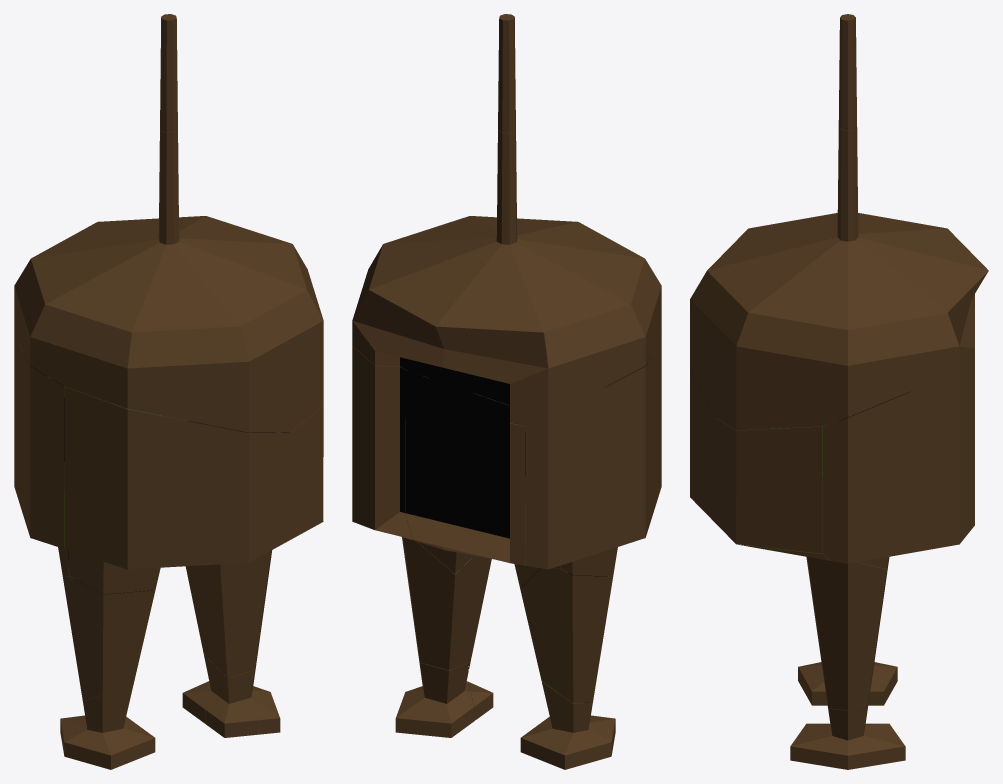
Rendered from elfhousebroken.fbx.
3 renders of one model, left to right at view 1: azimuth 30°, elevation 25°; view 2: azimuth 150°, elevation 25°; view 3: azimuth 270°, elevation 25°, orthographic.
Visible parts, largest first — view 1: Mesh.001_cell.003, Mesh.001_cell.008, Mesh.001_cell.006, Mesh.001_cell.004, Mesh.001_cell.005, Mesh.001_cell.002, Mesh.001_cell.007, Mesh.001_cell.001, Mesh.001_cell.009, Mesh.001_cell.010; view 2: Mesh.001_cell.003, Mesh.001_cell.006, Mesh.001_cell.007, Mesh.001_cell, Mesh.001_cell.005, Mesh.001_cell.004, Mesh.001_cell.002, Mesh.001_cell.001, Mesh.001_cell.009, Mesh.001_cell.008, Mesh.001_cell.010; view 3: Mesh.001_cell.003, Mesh.001_cell, Mesh.001_cell.007, Mesh.001_cell.004, Mesh.001_cell.001, Mesh.001_cell.008, Mesh.001_cell.009, Mesh.001_cell.002.
Boxes of the visible parts, x1,y1,x2,y2 form: Mesh.001_cell.003: (14, 129, 323, 432); Mesh.001_cell.008: (64, 387, 290, 594); Mesh.001_cell.006: (14, 335, 69, 576); Mesh.001_cell.004: (185, 550, 272, 677); Mesh.001_cell.005: (62, 575, 155, 701); Mesh.001_cell.002: (60, 667, 155, 769); Mesh.001_cell.007: (290, 406, 323, 539); Mesh.001_cell.001: (182, 654, 280, 734); Mesh.001_cell.009: (160, 14, 177, 132); Mesh.001_cell.010: (205, 708, 260, 737); Mesh.001_cell.003: (352, 128, 661, 426); Mesh.001_cell.006: (525, 358, 651, 576); Mesh.001_cell.007: (405, 369, 539, 588); Mesh.001_cell: (352, 346, 411, 539); Mesh.001_cell.005: (520, 568, 613, 703); Mesh.001_cell.004: (402, 537, 491, 670); Mesh.001_cell.002: (520, 681, 615, 769); Mesh.001_cell.001: (395, 657, 474, 737); Mesh.001_cell.009: (498, 14, 515, 132); Mesh.001_cell.008: (554, 327, 661, 568); Mesh.001_cell.010: (467, 681, 493, 720); Mesh.001_cell.003: (690, 127, 988, 430); Mesh.001_cell: (823, 363, 974, 563); Mesh.001_cell.007: (715, 418, 889, 574); Mesh.001_cell.004: (807, 557, 886, 710); Mesh.001_cell.001: (790, 689, 905, 769); Mesh.001_cell.008: (690, 369, 715, 522); Mesh.001_cell.009: (838, 14, 857, 130); Mesh.001_cell.002: (798, 662, 897, 705).
Size of the model in its own units: 200 by 189 by 492.
